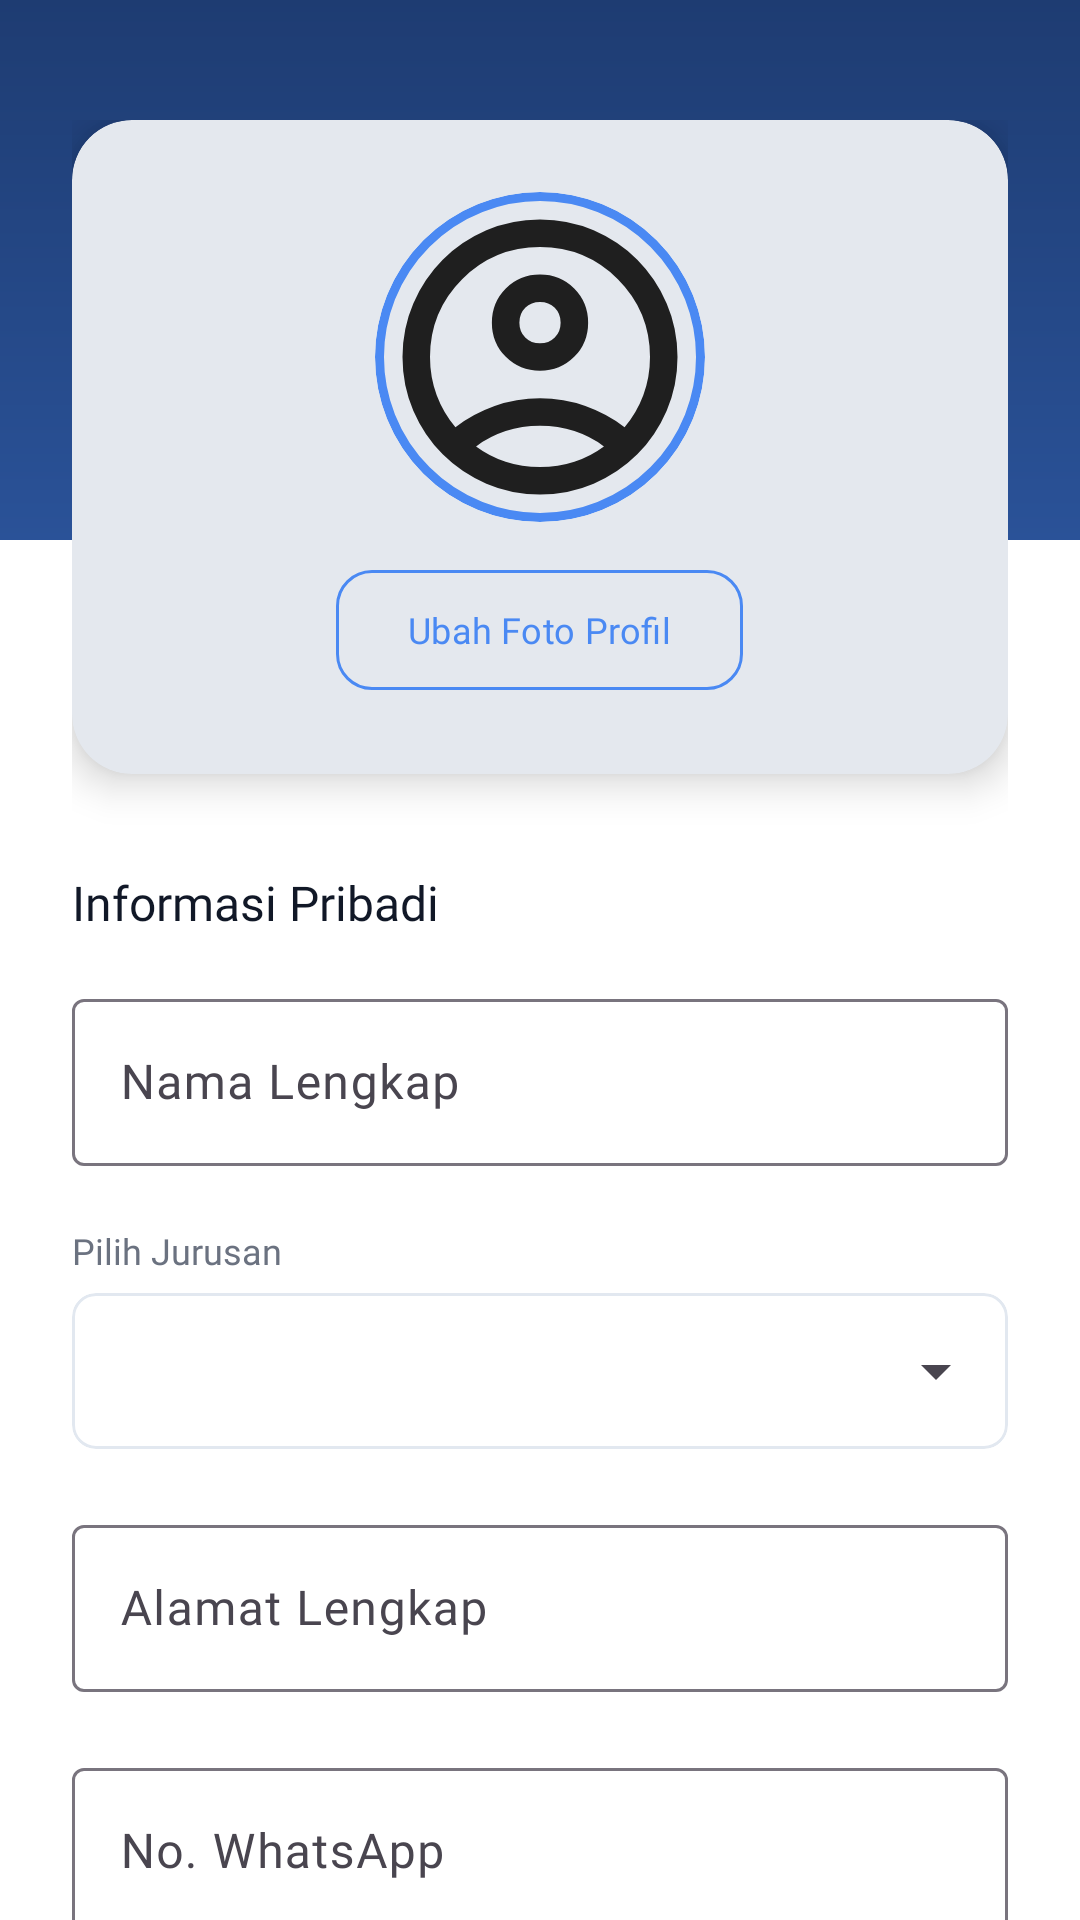

Locate icon controls on the screen. Image size 1080x1920, boxes as {"x1": x1, "y1": y1, "x2": x2, "y2": y2}.
profile: {"x1": 375, "y1": 192, "x2": 705, "y2": 522}
